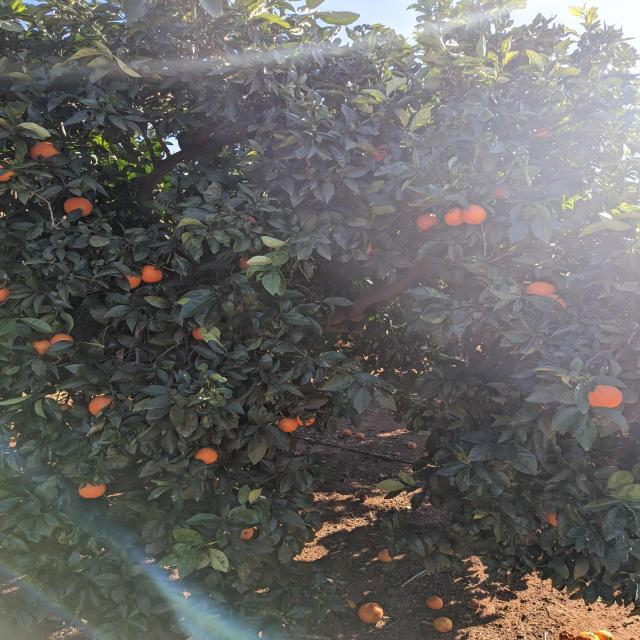Jeruk Sudah Matang: (587, 383, 623, 407), (526, 280, 558, 300), (62, 196, 93, 215), (358, 604, 386, 625), (462, 204, 487, 226), (30, 142, 60, 160), (142, 266, 164, 284), (86, 396, 108, 414), (444, 208, 466, 226), (197, 447, 220, 464), (80, 483, 106, 498), (432, 618, 456, 634), (415, 214, 437, 231), (51, 333, 75, 348), (278, 417, 300, 433), (32, 340, 52, 355), (426, 597, 446, 611), (127, 272, 142, 288), (192, 328, 208, 342), (0, 168, 15, 182), (240, 526, 256, 539), (296, 416, 316, 426), (0, 286, 11, 302), (548, 511, 559, 527), (238, 256, 250, 270), (379, 552, 393, 563)
